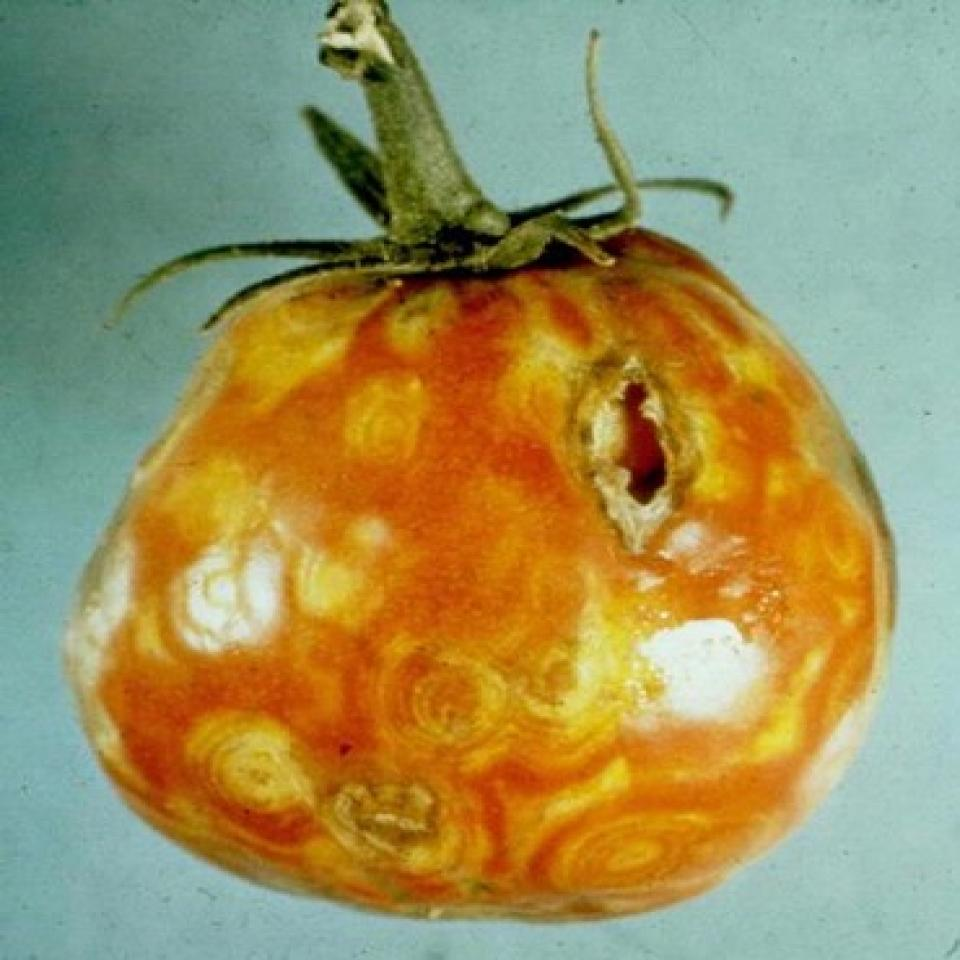Spotted wilt Virus: (71, 222, 896, 919)
